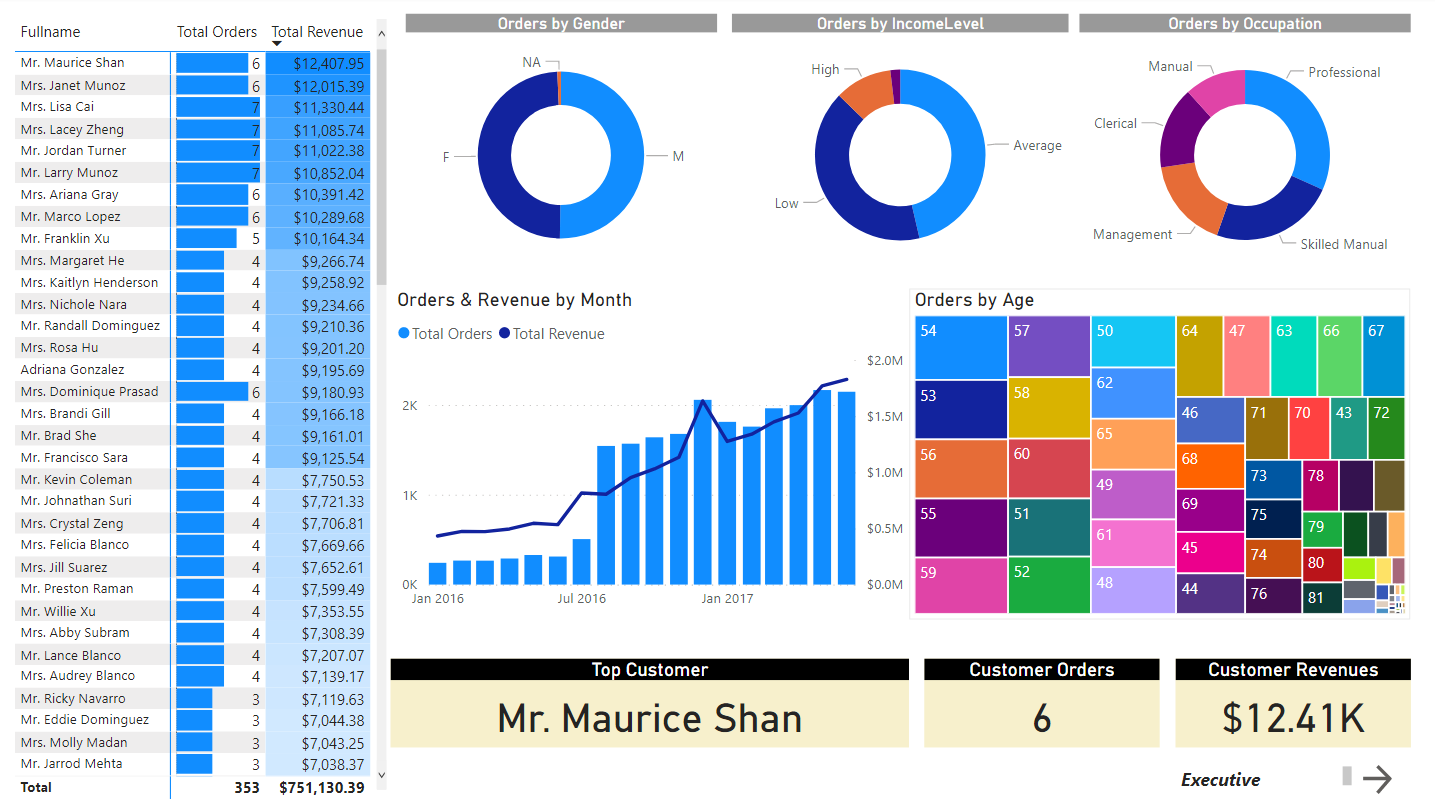

Layout of this report page (visuals, bound fields, positions):
{"tool":"powerbi","page":{"name":"Customer Detail","canvas":[1280,720],"ordinal":2},"visuals":[{"type":"pivotTable","fields":{"Values":["AW_Sales.Total Orders","AW_Sales.Total Revenue"],"Rows":["AW_Customer_Lookup.Fullname"]},"box":[9.6,15.7,341.3,704.3],"z":0},{"type":"donutChart","title":"Orders by Gender","fields":{"Category":["AW_Customer_Lookup.Gender"],"Y":["AW_Sales.Total Orders"]},"box":[363,15.7,277.4,235.2],"z":1000},{"type":"donutChart","title":"Orders by IncomeLevel","fields":{"Category":["AW_Customer_Lookup.IncomeLevel"],"Y":["AW_Sales.Total Orders"]},"box":[653.7,15.7,300.3,235.2],"z":2000},{"type":"donutChart","title":"Orders by Occupation","fields":{"Category":["AW_Customer_Lookup.Occupation"],"Y":["AW_Sales.Total Orders"]},"box":[962.4,15.7,295.5,235.2],"z":3000},{"type":"lineClusteredColumnComboChart","title":"Orders & Revenue by Month","fields":{"Category":["AW_Calendar_Lookup.Start of Month"],"Y":["AW_Sales.Total Orders"],"Y2":["AW_Sales.Total Revenue"]},"box":[351,260.5,460.7,294.3],"z":4000},{"type":"treemap","title":"Orders by Age","fields":{"Values":["AW_Sales.Total Orders"],"Group":["AW_Customer_Lookup.Age"]},"box":[811.7,260.5,446.2,294.3],"z":5000},{"type":"card","title":"Top Customer","fields":{"Values":["AW_Customer_Lookup.Fullname"]},"box":[349.7,589.7,461.9,79.6],"z":6000},{"type":"card","title":"Customer Orders","fields":{"Values":["AW_Sales.Total Orders"]},"box":[824.9,589.7,209.8,79.6],"z":7000},{"type":"card","title":"Customer Revenues","fields":{"Values":["AW_Sales.Total Revenue"]},"box":[1048,589.7,209.8,79.6],"z":8000},{"type":"textbox","box":[1048,681.4,161.6,33.8],"z":9000},{"type":"actionButton","box":[1209.6,680.2,48.2,35],"z":10000}]}

Visuals, with their boxes in screenshot pixels (x1, y1, x2, y2), scaled from the page's 1280x720 canvas onto the 1435x802 screenshot:
pivotTable - AW_Sales.Total Orders x AW_Sales.Total Revenue: box(11, 17, 393, 801)
"Orders by Gender" donutChart: box(407, 17, 718, 279)
"Orders by IncomeLevel" donutChart: box(733, 17, 1070, 279)
"Orders by Occupation" donutChart: box(1079, 17, 1410, 279)
"Orders & Revenue by Month" lineClusteredColumnComboChart: box(394, 290, 910, 618)
"Orders by Age" treemap: box(910, 290, 1410, 618)
"Top Customer" card: box(392, 657, 910, 746)
"Customer Orders" card: box(925, 657, 1160, 746)
"Customer Revenues" card: box(1175, 657, 1410, 746)
textbox: box(1175, 759, 1356, 797)
actionButton: box(1356, 758, 1410, 797)
